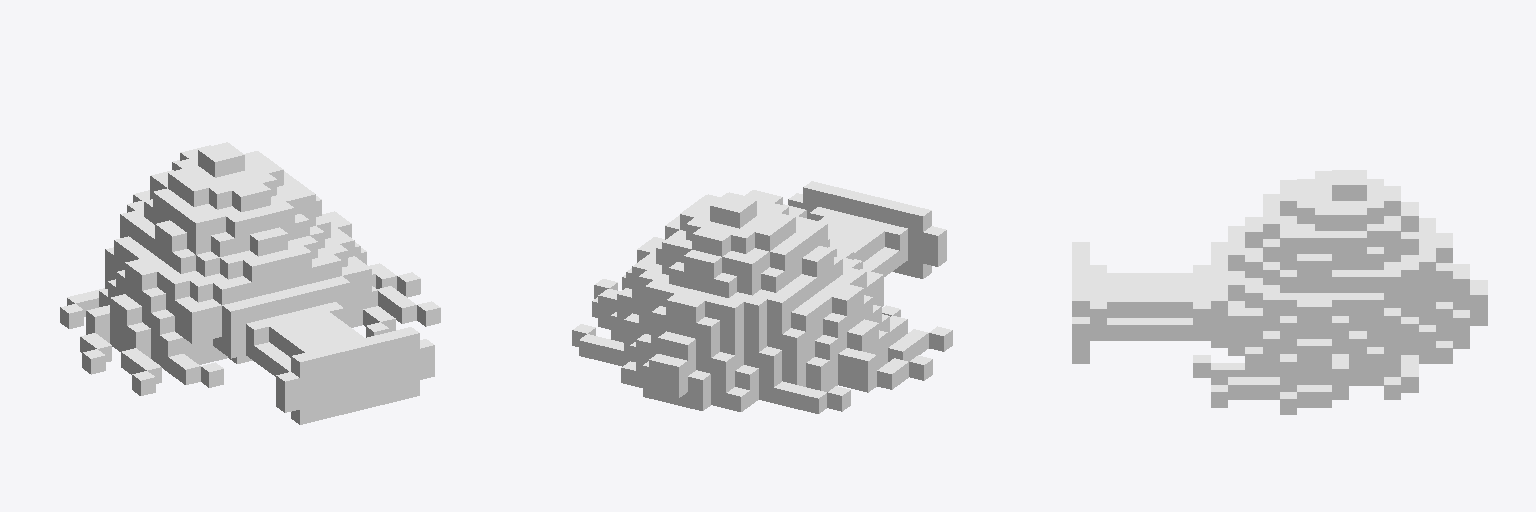
File: OktorockBlue2.vox.obj
The picture shows the model from 3 angles: view 1: azimuth 30°, elevation 25°; view 2: azimuth 150°, elevation 25°; view 3: azimuth 270°, elevation 25°; orthographic projection.
Visible parts, largest first — view 1: object 1; view 2: object 1; view 3: object 1.
Boxes of the visible parts, x1=… form: object 1: x1=60, y1=142, x2=440, y2=424; object 1: x1=572, y1=181, x2=952, y2=413; object 1: x1=1072, y1=170, x2=1487, y2=414.
Bounding box in the file's own units: 2.2 × 1 × 2.4.